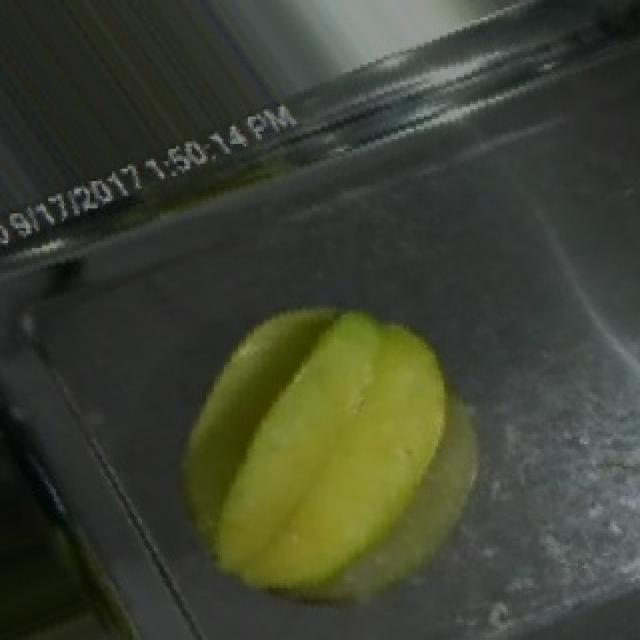fruit: (136, 263, 536, 640)
